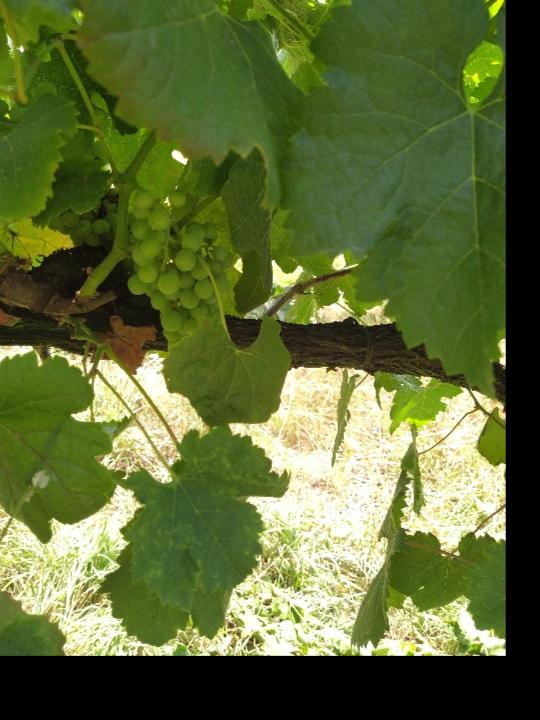grape: (128, 184, 239, 353)
